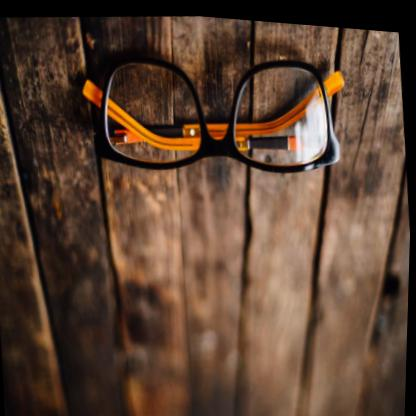Spectacles: (86, 34, 353, 190)
